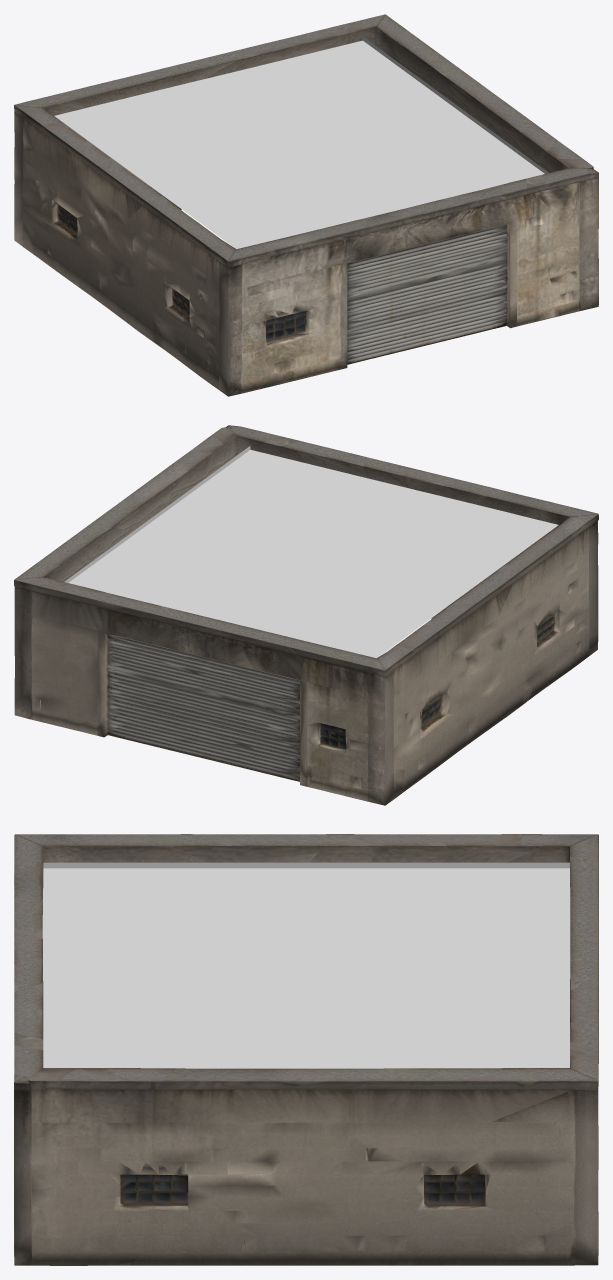
Rendered from warehouse.glb.
3 renders of one model, top to bottom at view 1: azimuth 30°, elevation 25°; view 2: azimuth 150°, elevation 25°; view 3: azimuth 270°, elevation 25°, orthographic. The views are drawn at different scales.
Parts seen in each view (by area): view 1: wall, metal, trim, glass; view 2: wall, metal, trim, glass; view 3: wall, metal, trim, glass.
Boxes of the visible parts, x1=… form: wall: x1=14, y1=26, x2=598, y2=396; metal: x1=54, y1=37, x2=548, y2=249; trim: x1=14, y1=14, x2=598, y2=261; glass: x1=48, y1=188, x2=319, y2=347; wall: x1=14, y1=436, x2=598, y2=805; metal: x1=64, y1=446, x2=558, y2=658; trim: x1=14, y1=425, x2=598, y2=670; glass: x1=307, y1=602, x2=566, y2=753; wall: x1=14, y1=835, x2=598, y2=1265; metal: x1=42, y1=862, x2=570, y2=1068; trim: x1=14, y1=834, x2=598, y2=1083; glass: x1=110, y1=1161, x2=495, y2=1222.
Bounding box in the file's own units: 12 × 4.19 × 12.
Materials: 1 (1 with a texture image).
